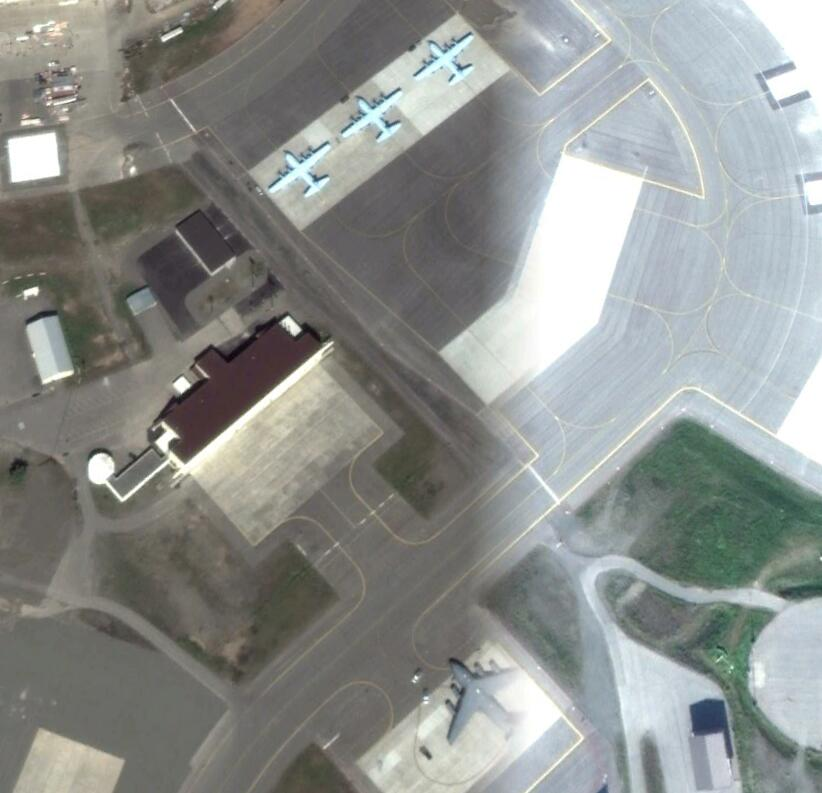A2: (268, 140, 331, 199), (413, 30, 478, 87), (338, 91, 407, 144)
A3: (444, 657, 532, 746)
